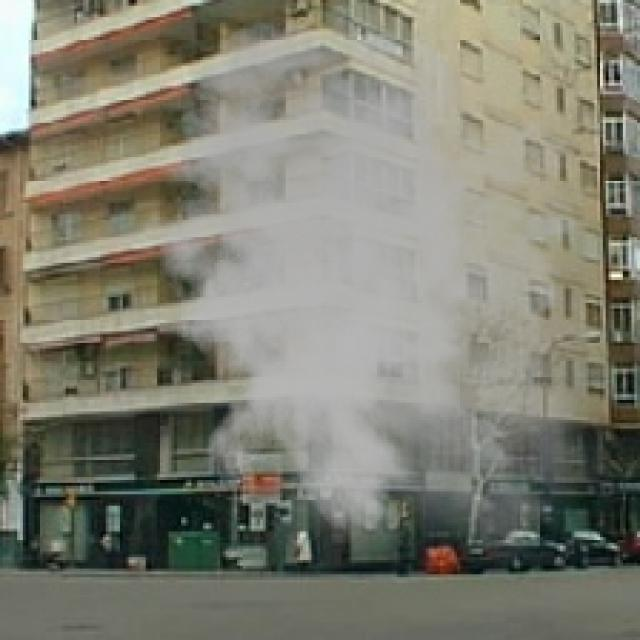smoke: (123, 20, 637, 586)
